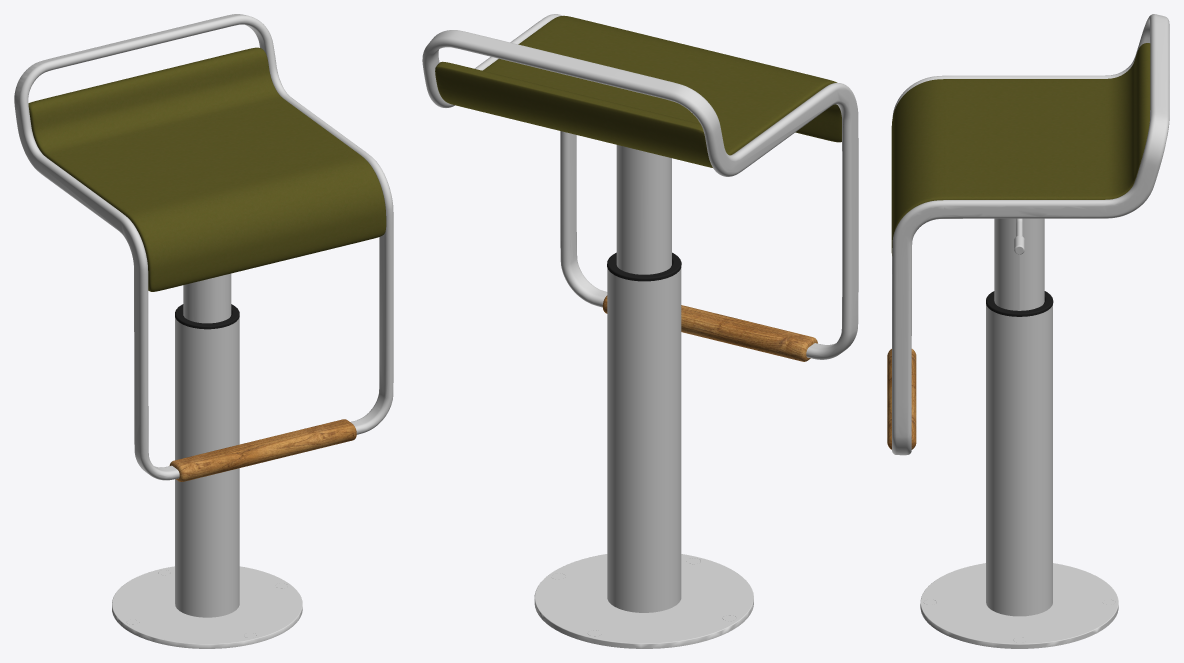
The model's file is c113-teknofibra-25.glb.
3 views of the same model, side by side, from view 1: azimuth 30°, elevation 25°; view 2: azimuth 150°, elevation 25°; view 3: azimuth 270°, elevation 25° (orthographic). The views are drawn at different scales.
Visible parts, largest first — view 1: c113-seduta-tessuto, c113-base-piastra, c113-poggiapiedi-legno, c113-ammortizzatore-distanziale; view 2: c113-base-piastra, c113-seduta-tessuto, c113-poggiapiedi-legno, c113-ammortizzatore-distanziale; view 3: c113-base-piastra, c113-seduta-tessuto, c113-poggiapiedi-legno, c113-ammortizzatore-distanziale.
Part boxes in pixels (x1=…): c113-seduta-tessuto: x1=28, y1=47, x2=386, y2=291; c113-base-piastra: x1=14, y1=14, x2=393, y2=648; c113-poggiapiedi-legno: x1=169, y1=419, x2=356, y2=481; c113-ammortizzatore-distanziale: x1=175, y1=304, x2=239, y2=329; c113-base-piastra: x1=422, y1=14, x2=858, y2=648; c113-seduta-tessuto: x1=435, y1=15, x2=841, y2=167; c113-poggiapiedi-legno: x1=602, y1=295, x2=817, y2=361; c113-ammortizzatore-distanziale: x1=607, y1=252, x2=681, y2=281; c113-base-piastra: x1=892, y1=14, x2=1169, y2=648; c113-seduta-tessuto: x1=891, y1=43, x2=1150, y2=255; c113-poggiapiedi-legno: x1=887, y1=349, x2=916, y2=449; c113-ammortizzatore-distanziale: x1=986, y1=291, x2=1053, y2=316.
Size of the model in its own units: 0.4852 by 0.9046 by 0.4268.
Materials: 4 (2 with a texture image).
